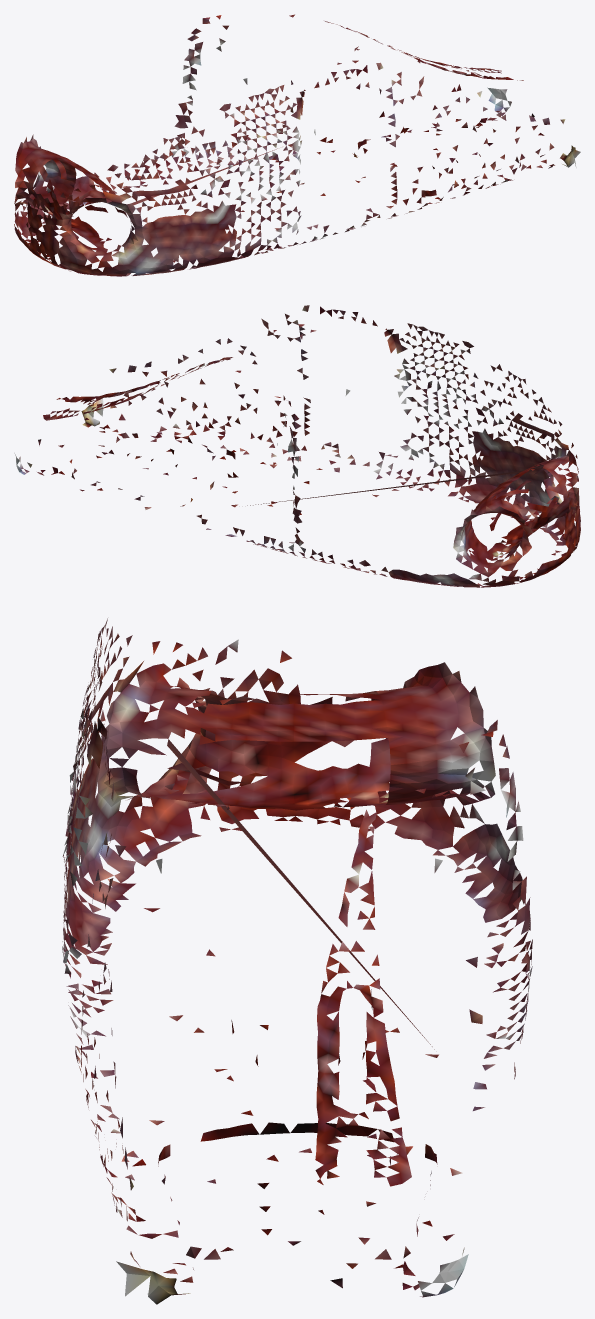
Rendered from whistle_final900.obj.
3 views of the same model, one above another, from view 1: azimuth 30°, elevation 25°; view 2: azimuth 150°, elevation 25°; view 3: azimuth 270°, elevation 25° (orthographic). The views are drawn at different scales.
Size of the model in its own units: 1.93 by 0.5941 by 0.7636.
